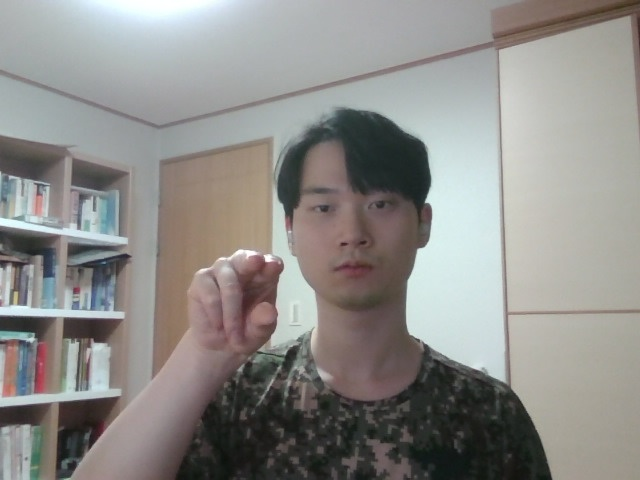no: (152, 223, 302, 397)
